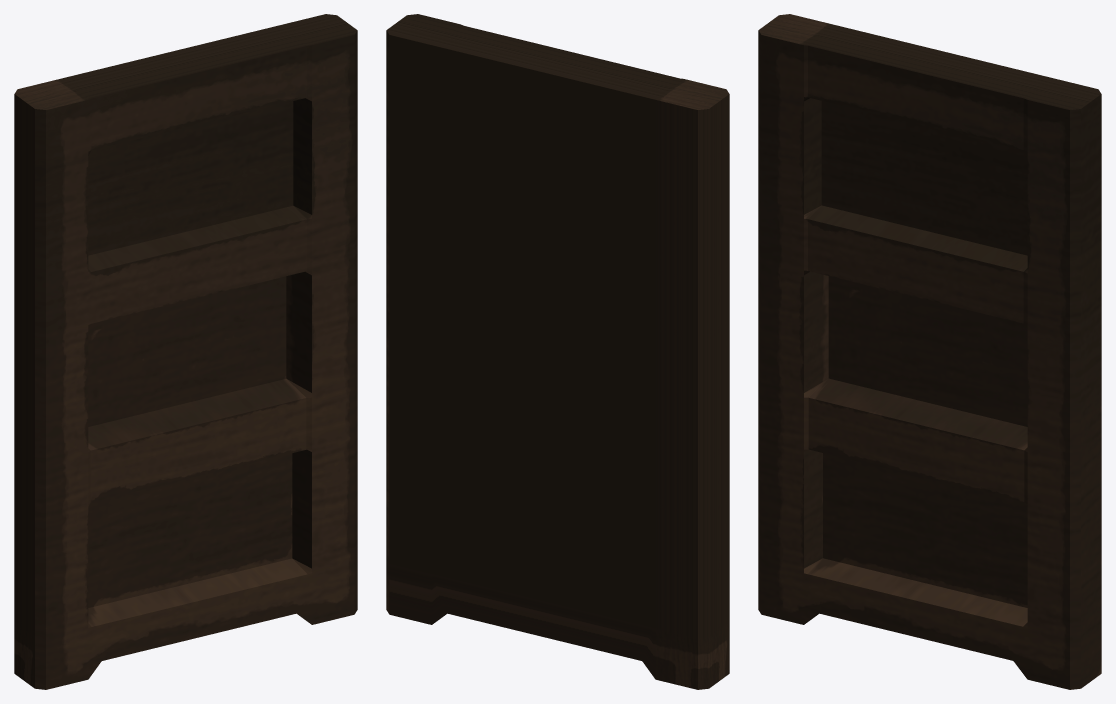
The model's file is etagere.fbx.
The picture shows the model from 3 angles, left to right: view 1: azimuth 30°, elevation 25°; view 2: azimuth 150°, elevation 25°; view 3: azimuth 330°, elevation 25°; orthographic projection.
Visible parts, largest first — view 1: Cube; view 2: Cube; view 3: Cube.
Part boxes in pixels (x1,y1,x2,y2): Cube: (14, 14, 357, 689); Cube: (386, 14, 729, 689); Cube: (758, 14, 1101, 689).
Bounding box in the file's own units: 1304 × 2240 × 200.
